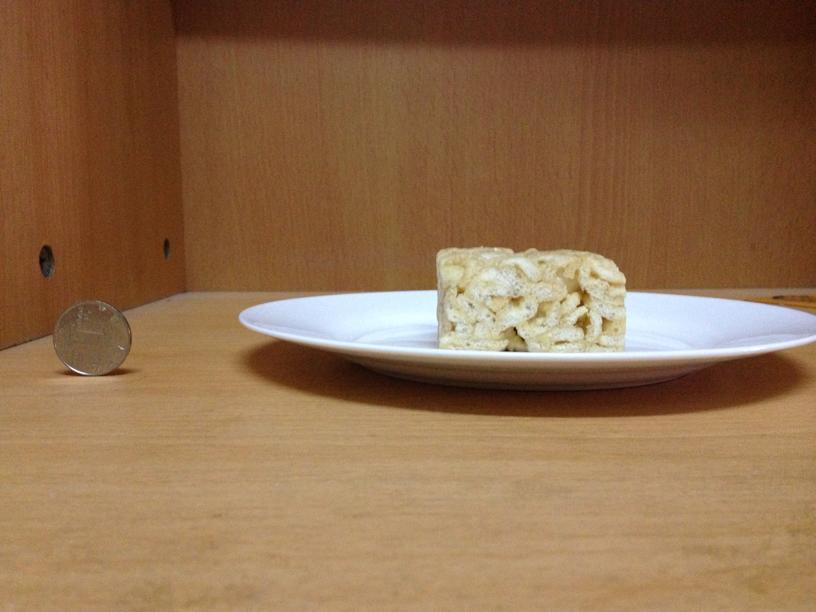coin: (50, 299, 133, 378)
sachima: (429, 245, 628, 353)
